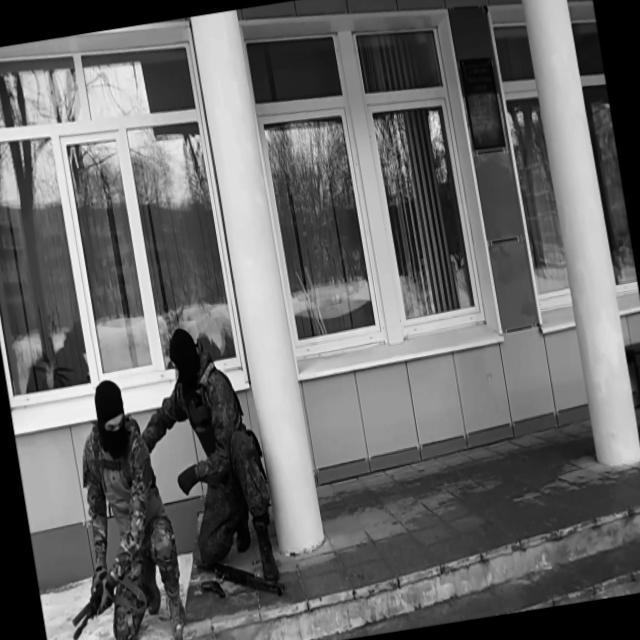gun: (194, 539, 290, 611), (65, 578, 116, 640), (198, 576, 228, 604)
person with a gun: (126, 315, 286, 602), (34, 370, 193, 640)
